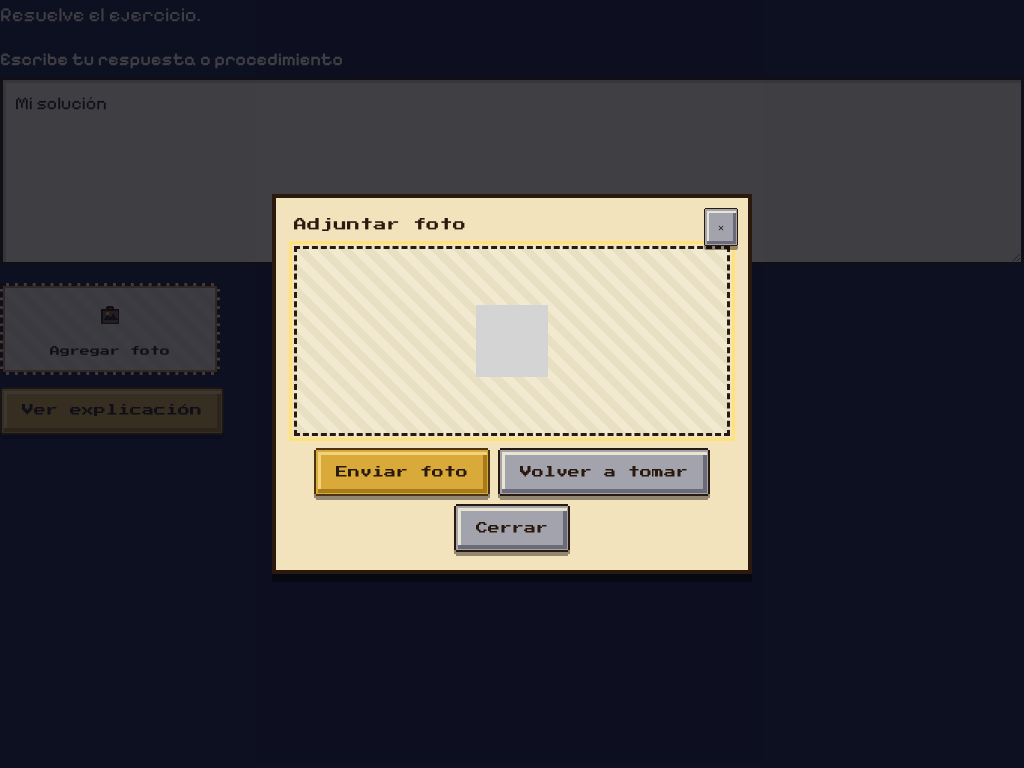
Test: Adjuntar foto en preguntas › permite pegar, previsualizar y enviar la foto para revisión
The width and height of the screenshot is (1024, 768).
Earlier steps of the test are not shown.
Click the button "Enviar foto" at (402, 472), box [314,448,490,496]
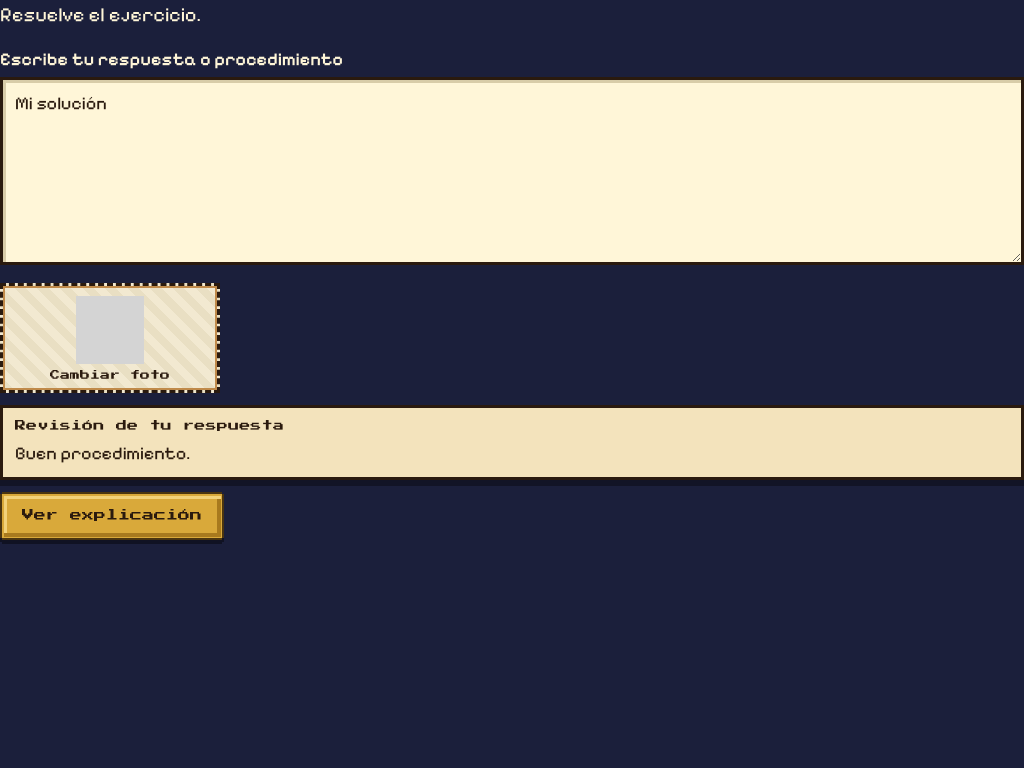
Expected: the text "Buen procedimiento." is shown, [15,442,190,464]
Expected: the dialog is gone
